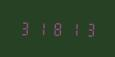eight: (48, 19, 62, 37)
one: (33, 19, 47, 36), (63, 20, 77, 37)
three: (18, 19, 32, 36), (78, 20, 92, 37)
